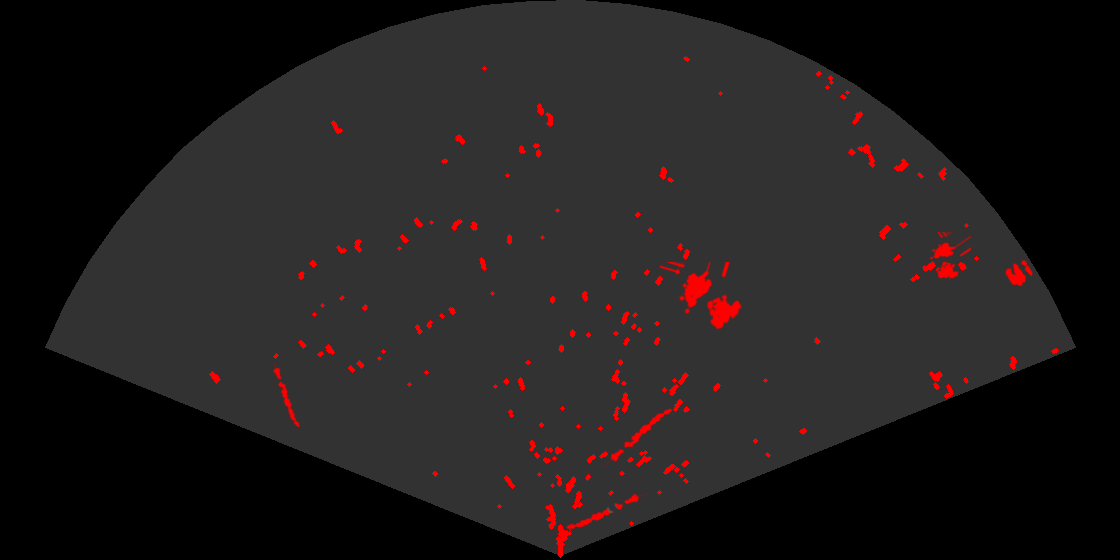ball: (1004, 259, 1034, 288)
cage: (660, 262, 744, 331), (928, 232, 971, 280)
chain: (601, 407, 674, 467), (564, 491, 646, 531), (271, 364, 302, 430)
